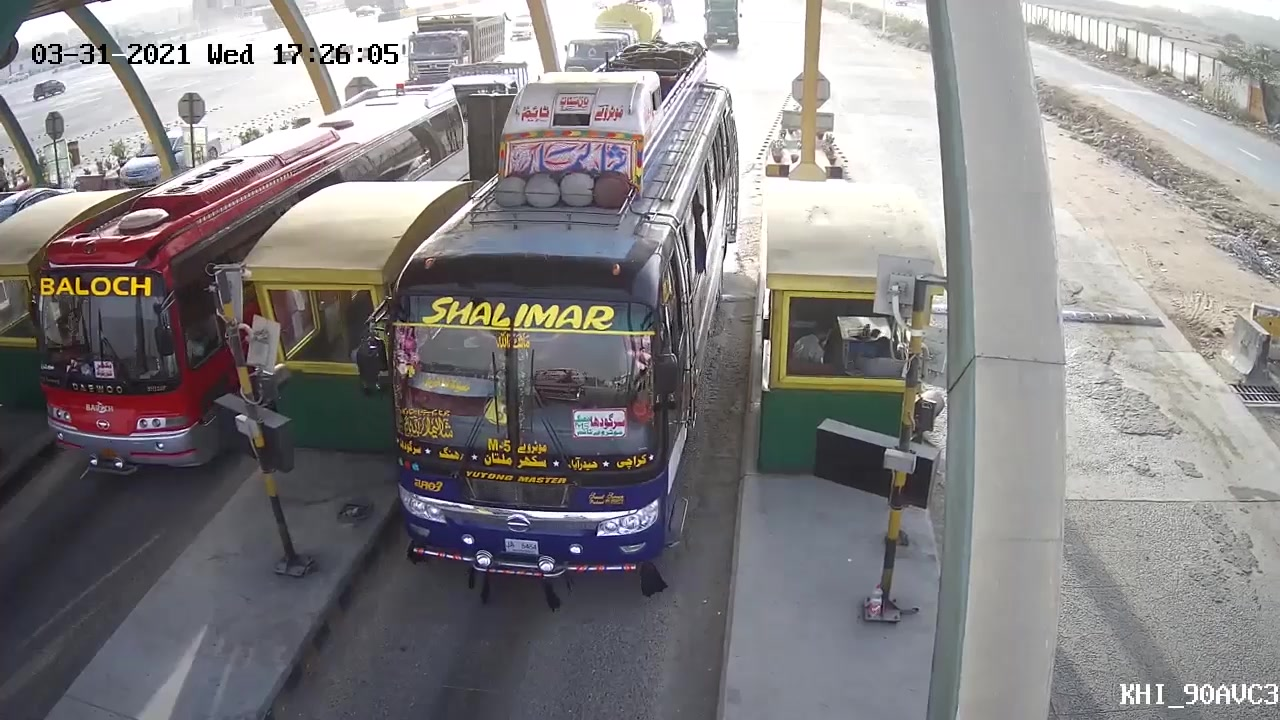F4: (393, 46, 749, 605)
